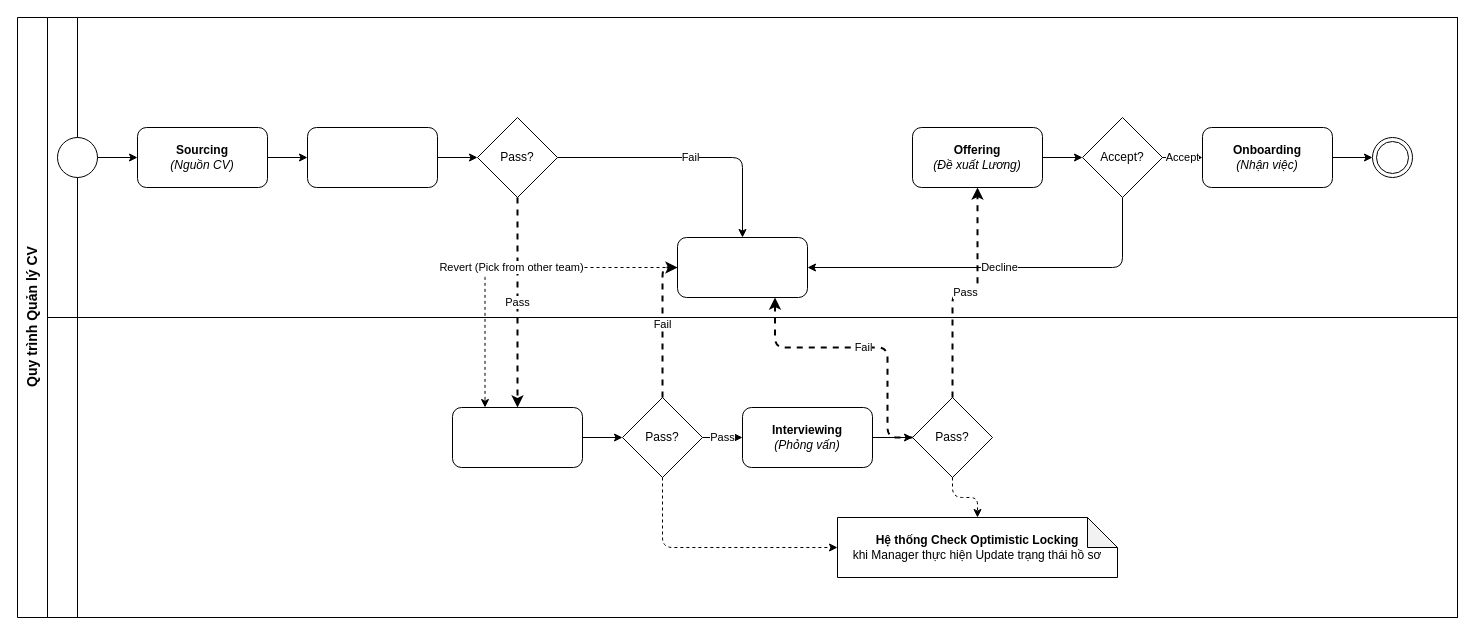
Some shapes in this 1475 by 635 pixel diagram are drawn without their labels. The shapes that lost their labels are listed below. From the top down, each one's box as (x1, y1, x2, y2) in pixels, then its label:
(306, 126, 438, 188): HR_Screening (Sơ loại HR)
(46, 16, 1458, 318): Lane 1: HR
(676, 236, 808, 298): Rejected (Loại/Lưu trữ)
(452, 406, 582, 468): Manager_Review (Quản lý Đánh giá)
(46, 316, 1458, 618): Lane 2: Manager
